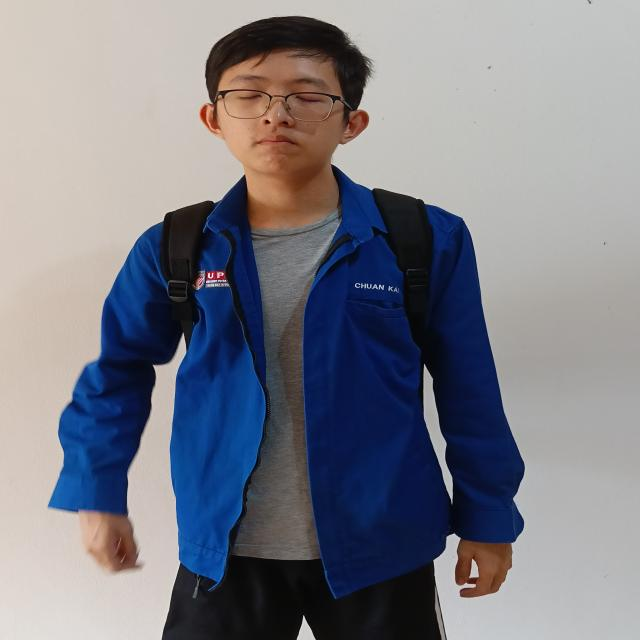person_with_labcoat: (50, 16, 524, 640)
